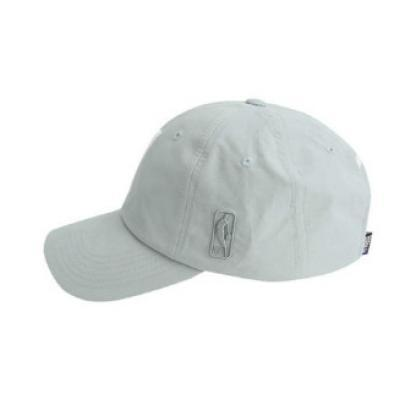cap: (33, 89, 382, 307)
